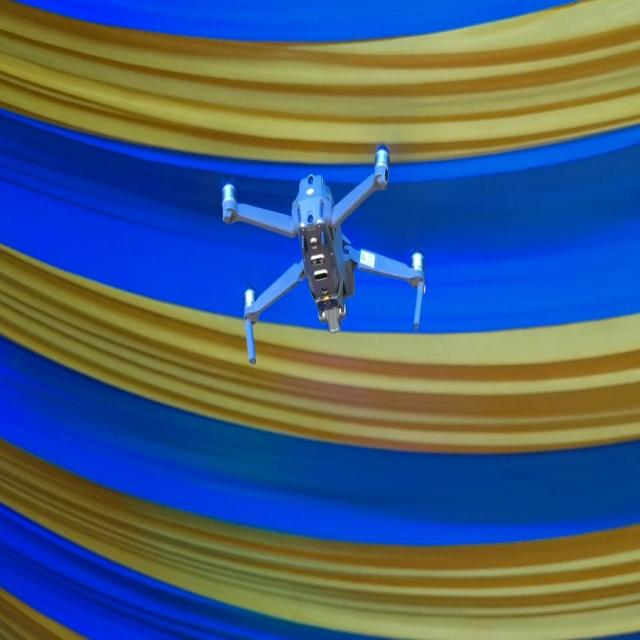Drone: (224, 146, 427, 367)
